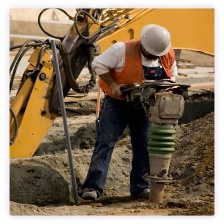helmet: (136, 22, 178, 57)
person: (86, 21, 183, 198)
